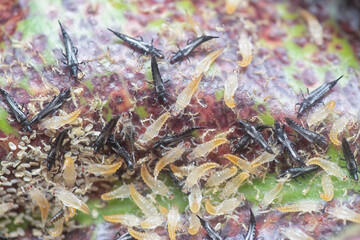Thrips: (88, 177, 184, 240), (109, 14, 215, 67), (22, 180, 90, 229), (284, 75, 346, 119), (53, 14, 87, 82), (0, 82, 36, 137), (27, 88, 79, 123), (185, 129, 231, 164), (252, 175, 289, 215), (304, 153, 350, 185), (233, 25, 263, 71), (150, 140, 188, 175), (145, 53, 168, 110), (276, 196, 320, 222), (173, 80, 204, 114), (216, 80, 248, 109), (207, 196, 246, 218)
